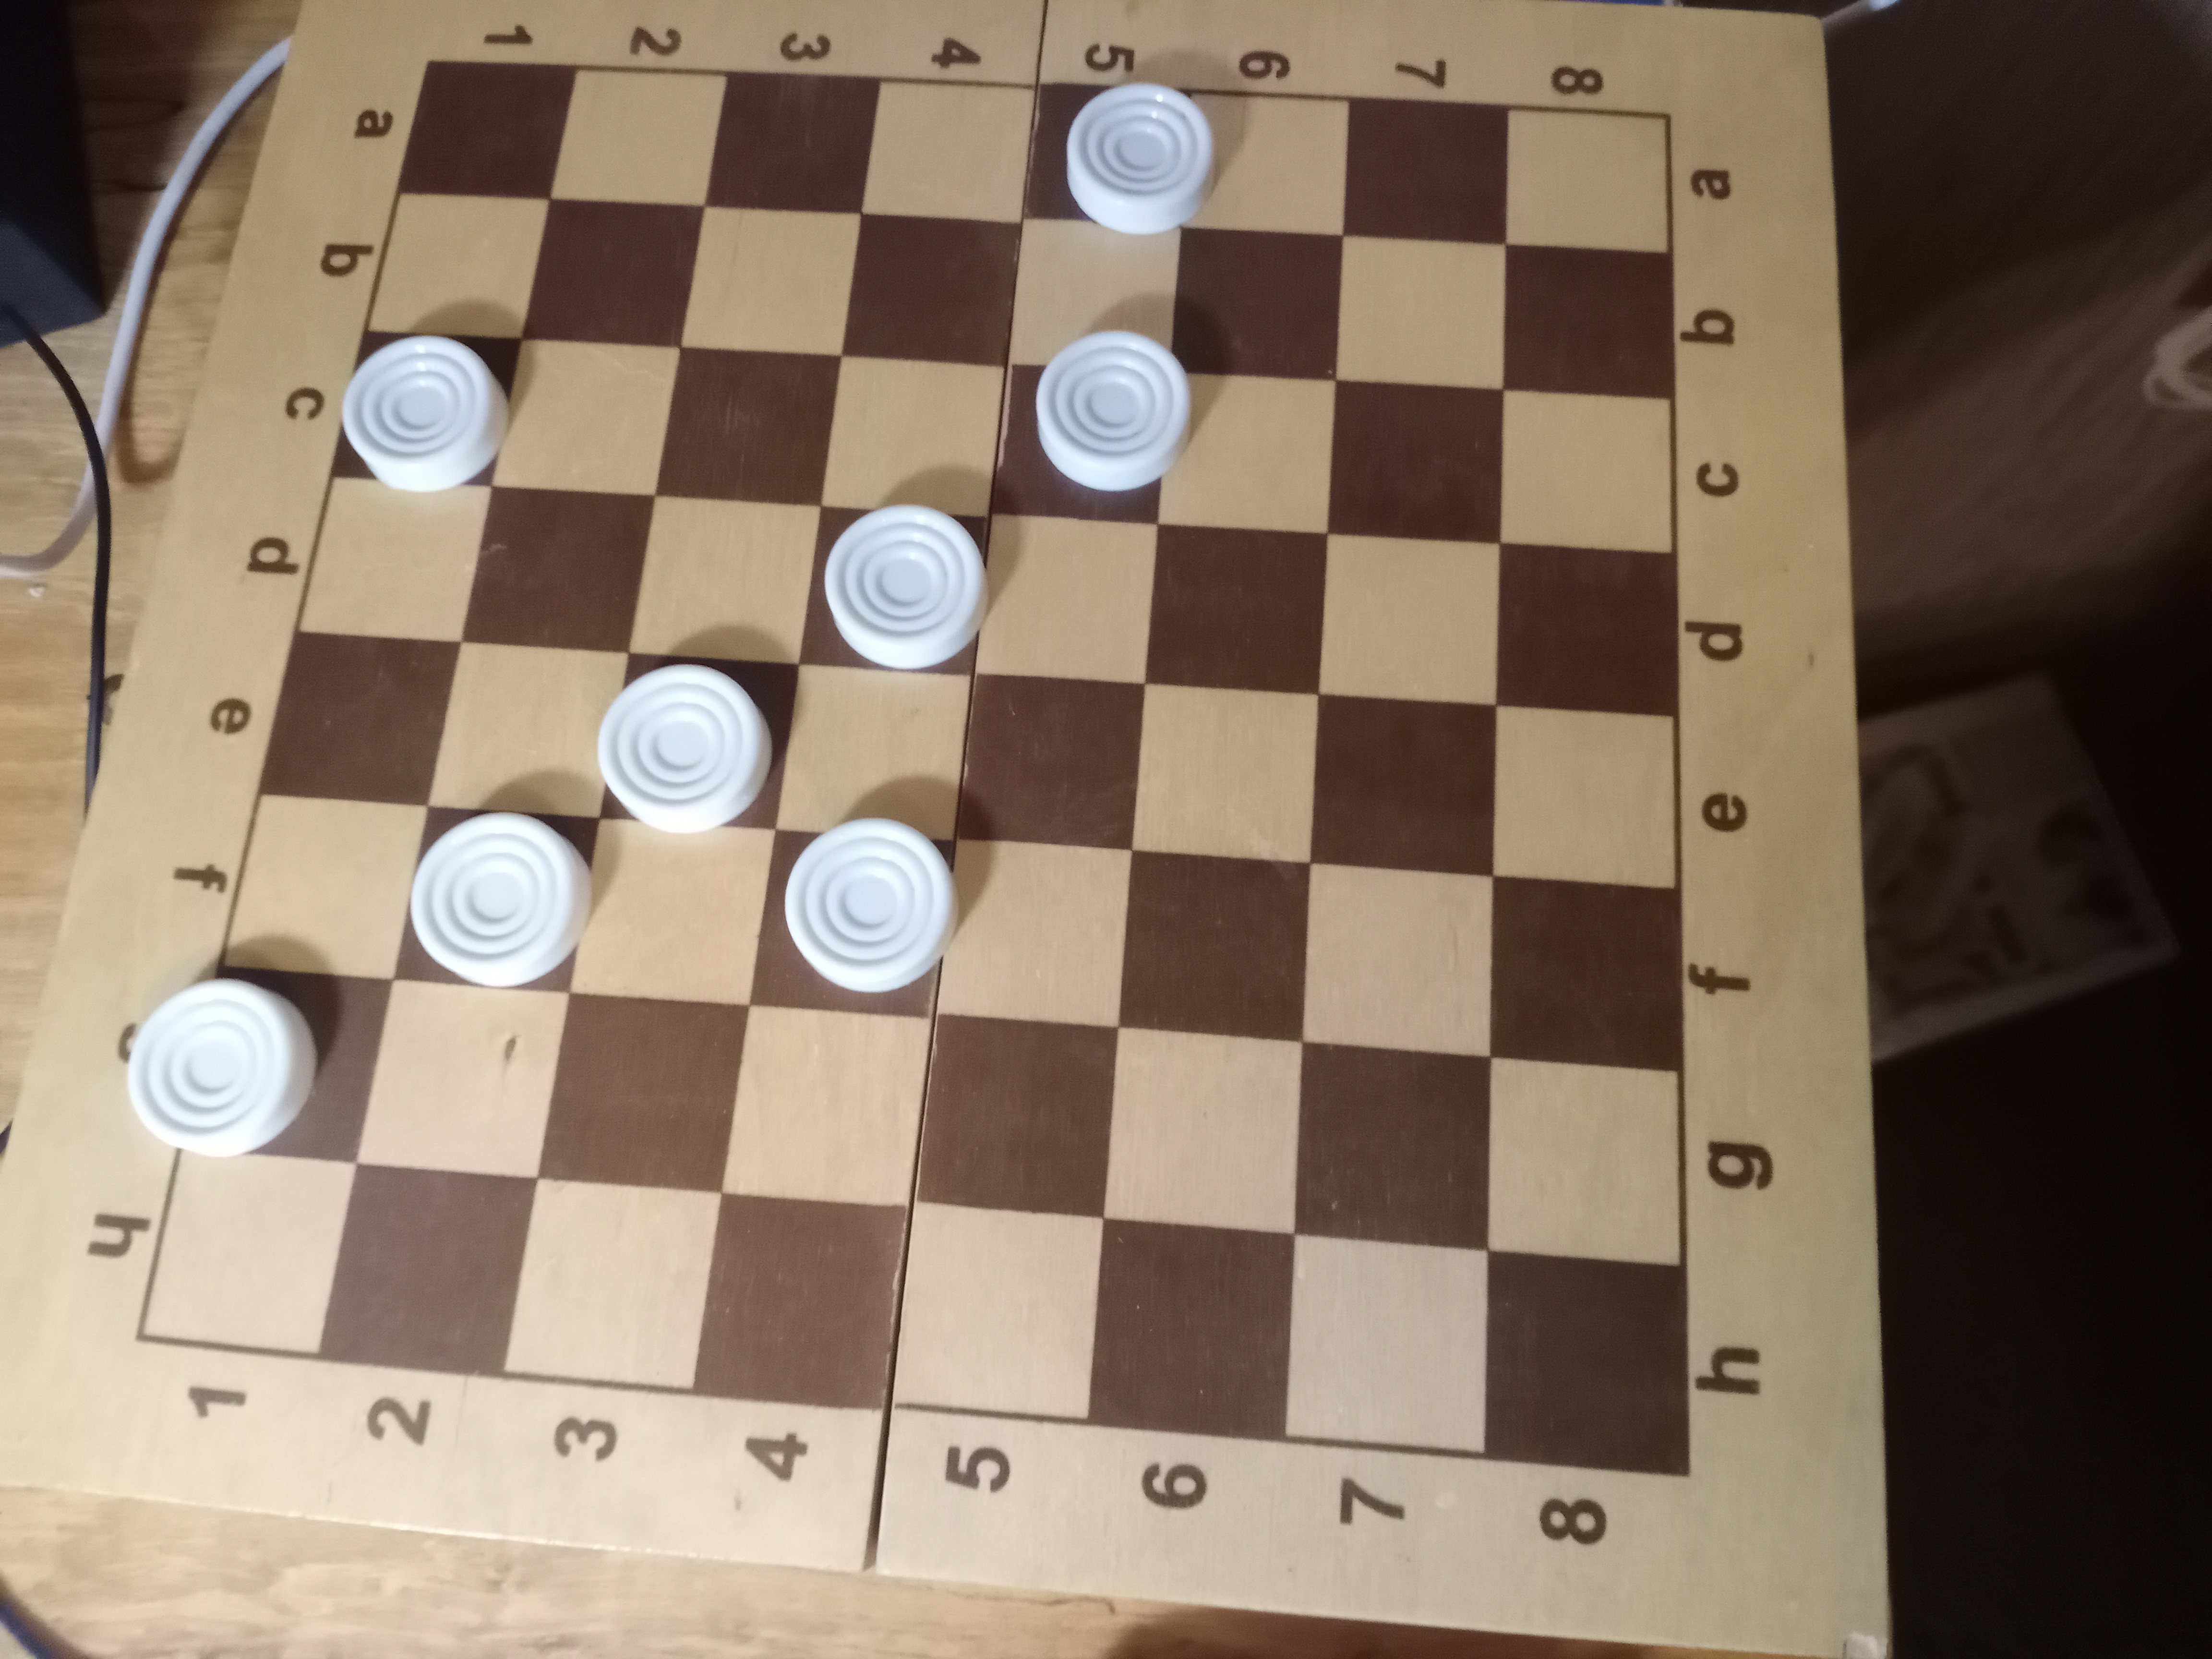White_Draught: (127, 967, 394, 1162), (749, 819, 960, 1019), (991, 331, 1191, 525), (392, 807, 599, 993), (601, 652, 798, 836), (798, 505, 991, 676), (331, 331, 521, 491), (1024, 82, 1214, 234)
